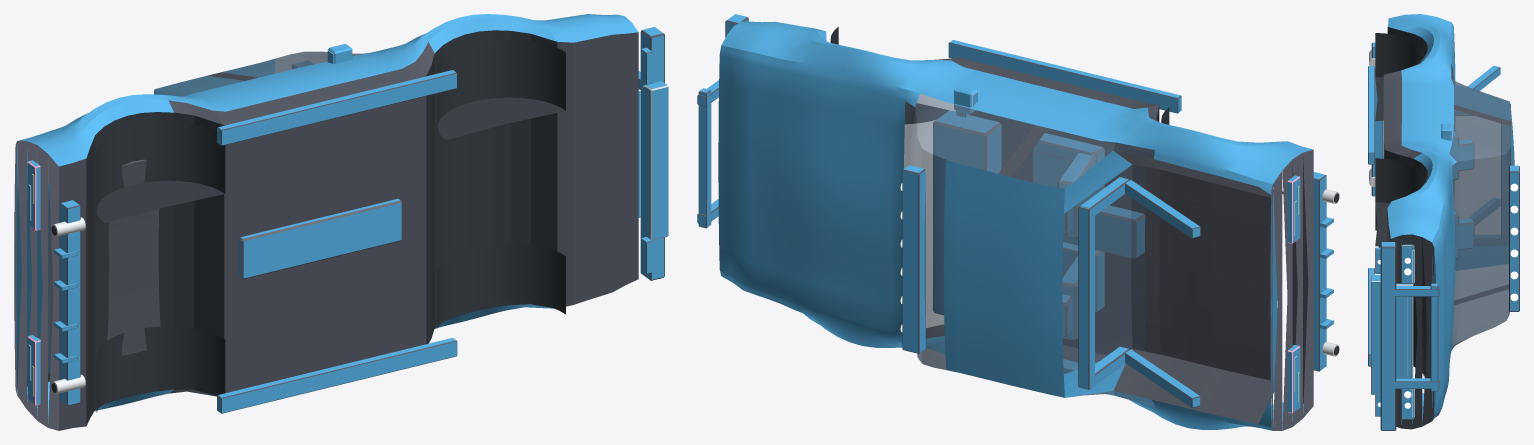
The model's file is gavril_offroad.glb.
The picture shows the model from 3 angles, left to right: view 1: azimuth 30°, elevation 25°; view 2: azimuth 150°, elevation 25°; view 3: azimuth 270°, elevation 25°; orthographic projection. The views are drawn at different scales.
Visible parts, largest first — view 1: Gavril_Offroad_4x4; view 2: Gavril_Offroad_4x4; view 3: Gavril_Offroad_4x4.
Boxes of the visible parts, box(x1,y1,x2,y2) form: Gavril_Offroad_4x4: box(14, 14, 668, 430); Gavril_Offroad_4x4: box(697, 14, 1339, 430); Gavril_Offroad_4x4: box(1368, 14, 1519, 430).
Bounding box in the file's own units: 4.43 × 2.1 × 1.25.
